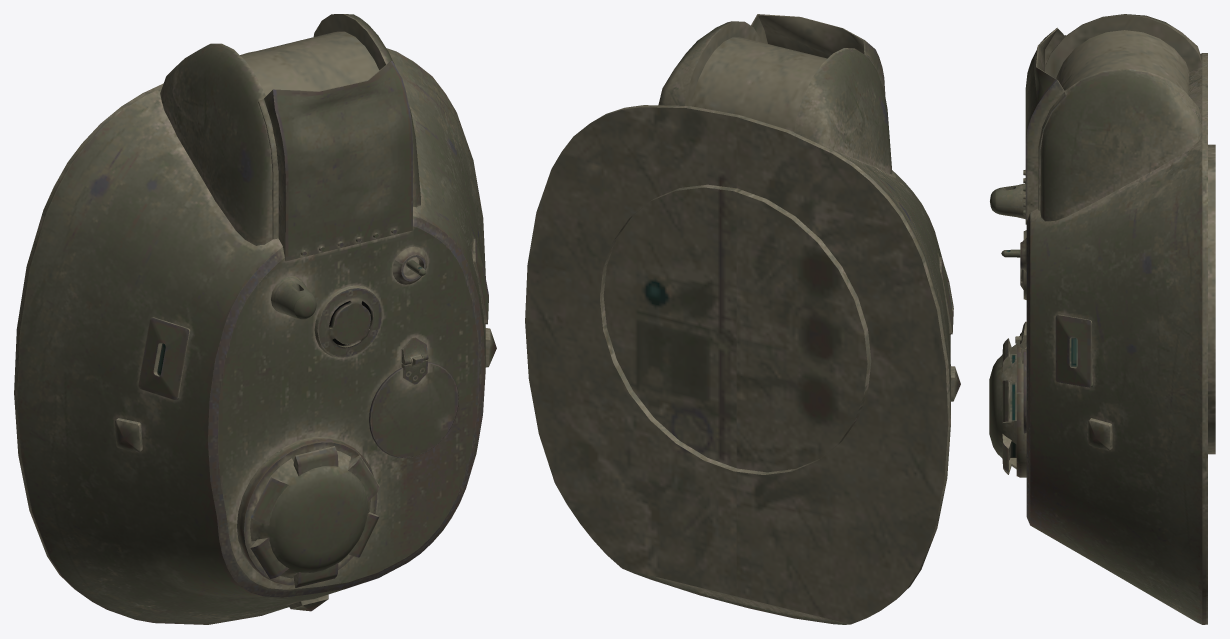
File: Turret_02.glb
3 renders of one model, left to right at view 1: azimuth 30°, elevation 25°; view 2: azimuth 150°, elevation 25°; view 3: azimuth 270°, elevation 25°, orthographic. The views are drawn at different scales.
Visible parts, largest first — view 1: set_0_group_0; view 2: set_0_group_0; view 3: set_0_group_0.
Boxes of the visible parts, <box> form: set_0_group_0: <box>14,14,496,624</box>; set_0_group_0: <box>525,14,960,624</box>; set_0_group_0: <box>989,14,1215,624</box>.
Bounding box in the file's own units: 2.74 × 3.38 × 1.26.
Materials: 1 (1 with a texture image).
